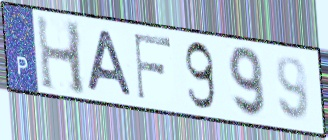9: (225, 45, 268, 119), (273, 55, 311, 124), (182, 39, 217, 111)
A: (85, 28, 135, 98)
F: (132, 31, 173, 102)
H: (34, 12, 88, 98)
